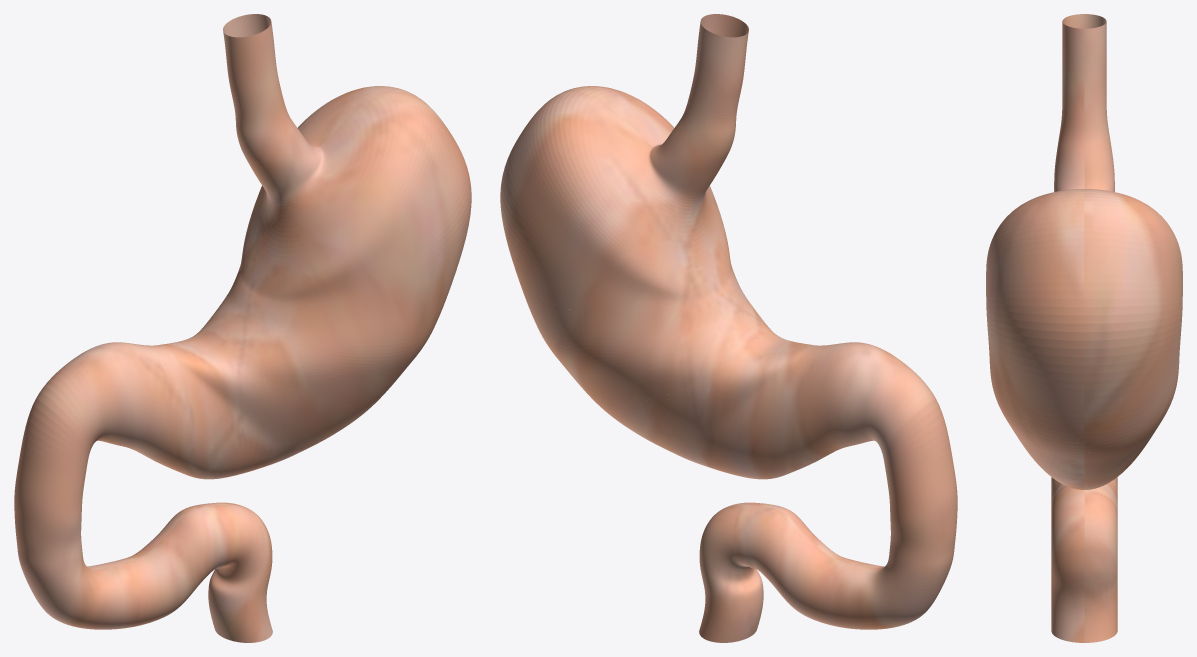
The picture shows the model from 3 angles, left to right: view 1: azimuth 30°, elevation 25°; view 2: azimuth 150°, elevation 25°; view 3: azimuth 270°, elevation 25°; orthographic projection.
Visible parts, largest first — view 1: Cylinder_3; view 2: Cylinder_3; view 3: Cylinder_3.
Boxes of the visible parts, <box> form: Cylinder_3: <box>14,14,471,642</box>; Cylinder_3: <box>500,14,957,642</box>; Cylinder_3: <box>986,14,1182,642</box>.
Bounding box in the file's own units: 8.02 × 10.54 × 3.06.
Materials: 1 (1 with a texture image).
